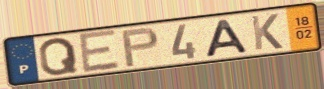4: (170, 23, 198, 61)
A: (203, 18, 251, 59)
E: (76, 28, 123, 76)
K: (248, 12, 285, 52)
P: (120, 26, 162, 69)
Q: (38, 35, 81, 77)
